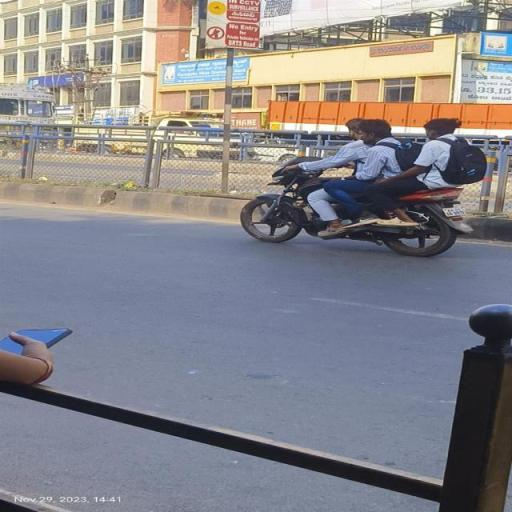tripple riding: (274, 113, 492, 191)
